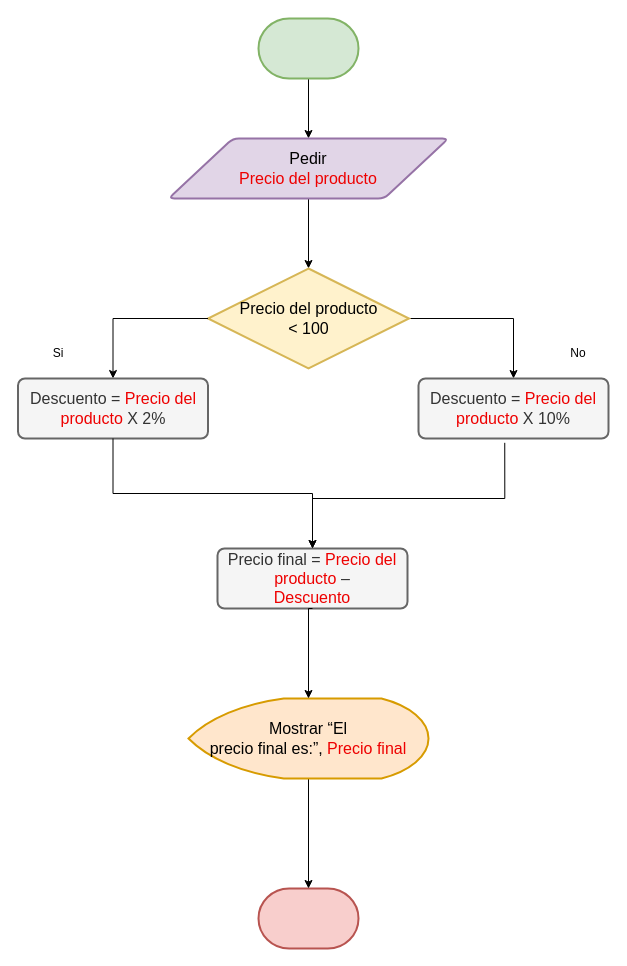
The diagram is 627 pixels wide and 966 high, and some of its shapes have lost their labels. Each missing label, with the box of its shape:
Fin: (257, 887, 359, 949)
Inicio: (257, 17, 359, 79)
